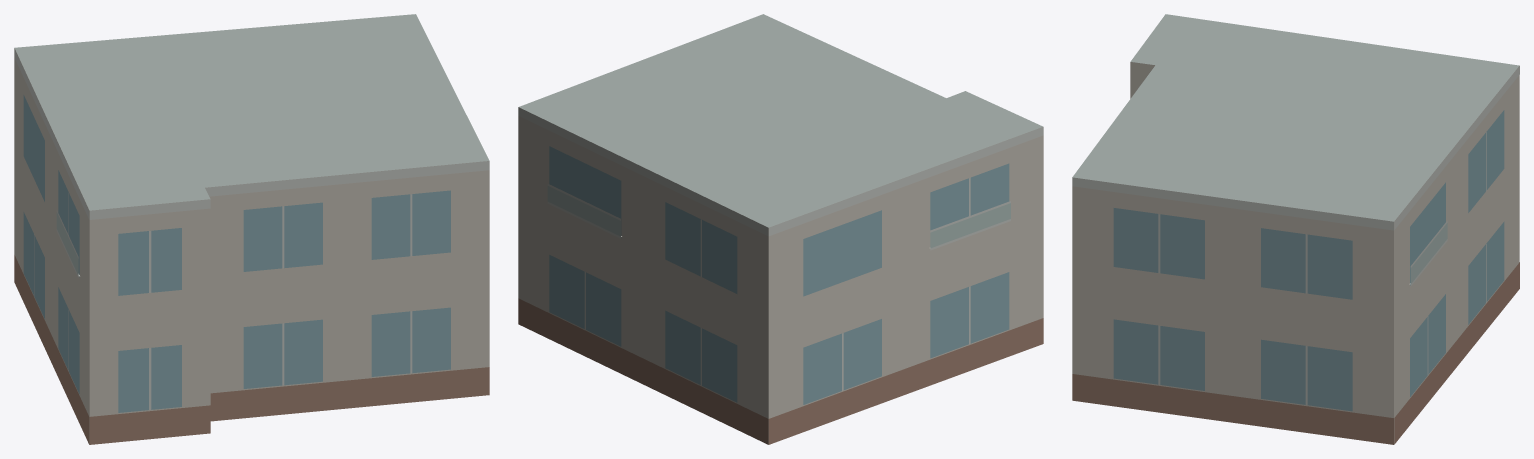
The model's file is survey-upis-32916187.glb.
The picture shows the model from 3 angles, left to right: view 1: azimuth 30°, elevation 25°; view 2: azimuth 150°, elevation 25°; view 3: azimuth 270°, elevation 25°; orthographic projection. The views are drawn at different scales.
Parts seen in each view (by area): view 1: survey-upis-32916187.tmp; view 2: survey-upis-32916187.tmp; view 3: survey-upis-32916187.tmp.
Boxes of the visible parts, x1=… form: survey-upis-32916187.tmp: x1=14, y1=14, x2=489, y2=444; survey-upis-32916187.tmp: x1=518, y1=14, x2=1043, y2=444; survey-upis-32916187.tmp: x1=1072, y1=14, x2=1519, y2=444.
Bounding box in the file's own units: 12.18 × 6.1 × 11.09.
